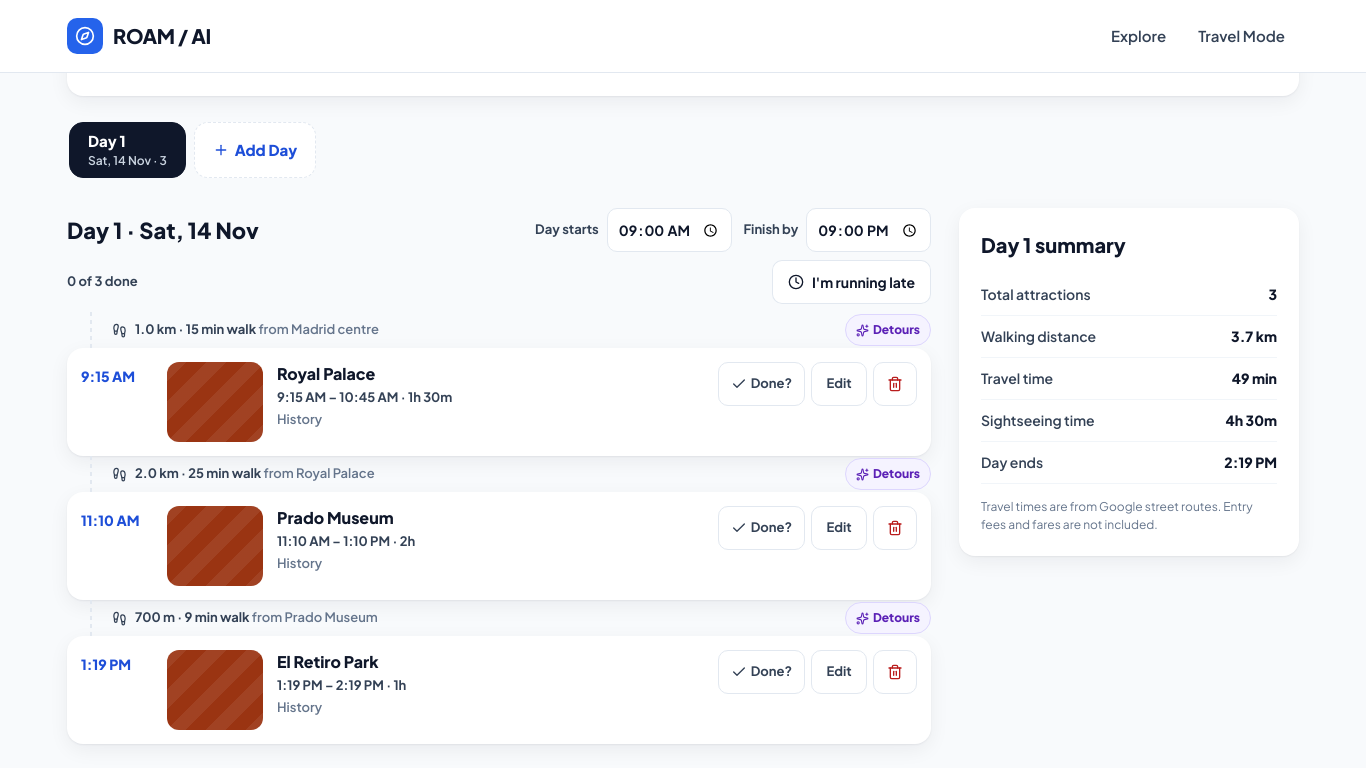
ItineraryPage › marks stops done and counts progress
(page scrolled)
Click the button with aria-label "Mark Royal Palace done".
click(761, 384)  # box [718,362,805,406]
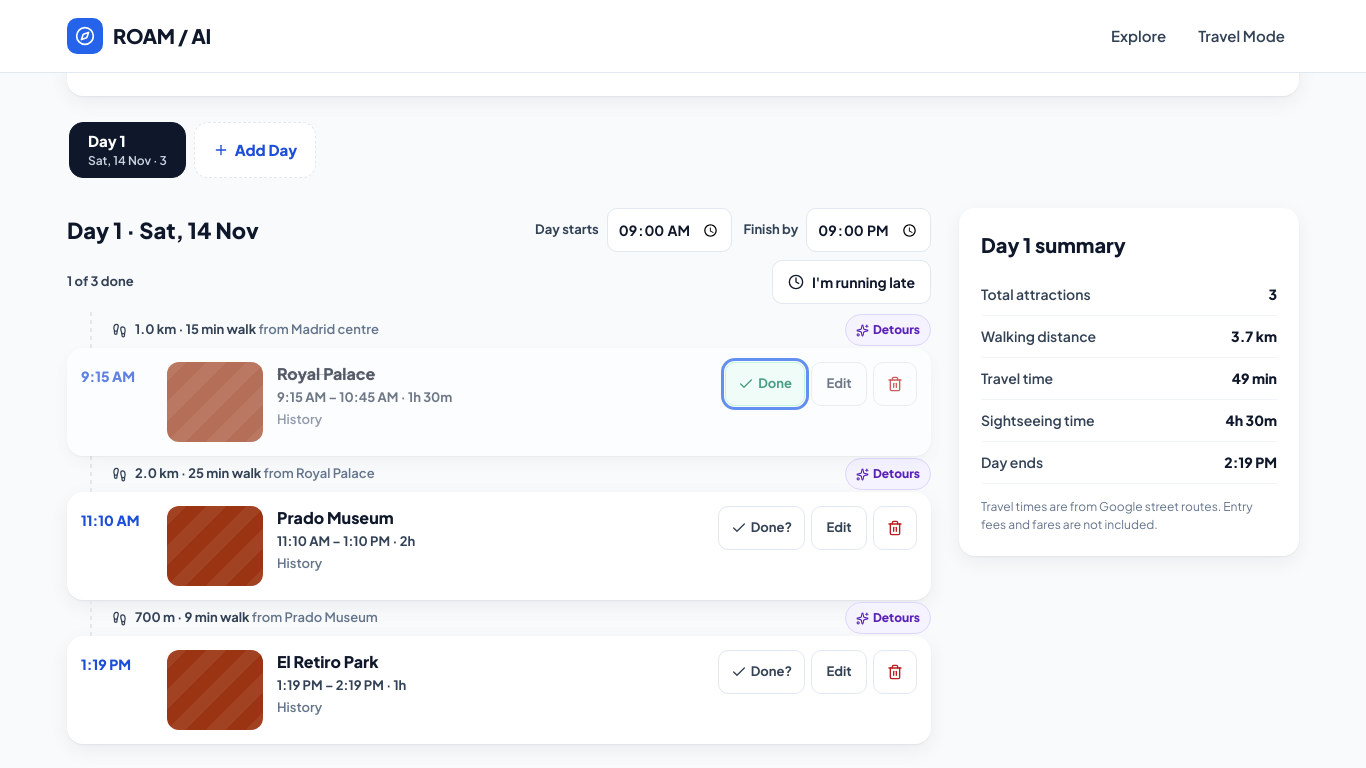
expect the text "1 of 3 done" is shown: met, box [67,272,134,292]
